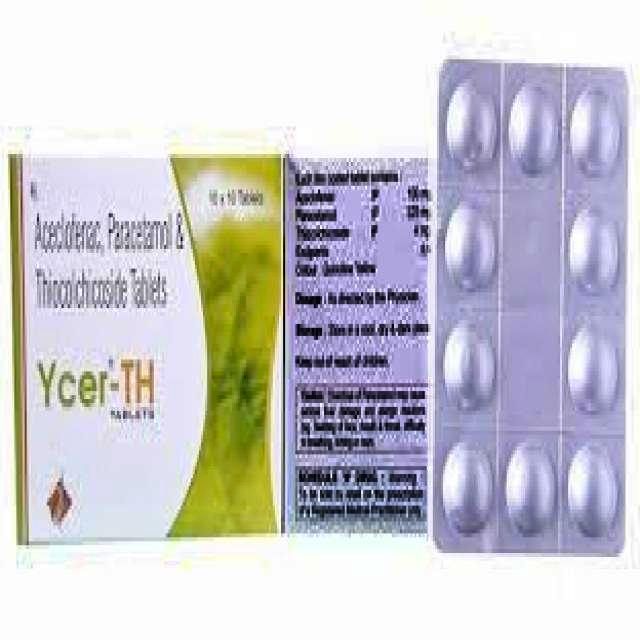authentic: (0, 139, 287, 552), (428, 54, 631, 568), (288, 146, 433, 550)
